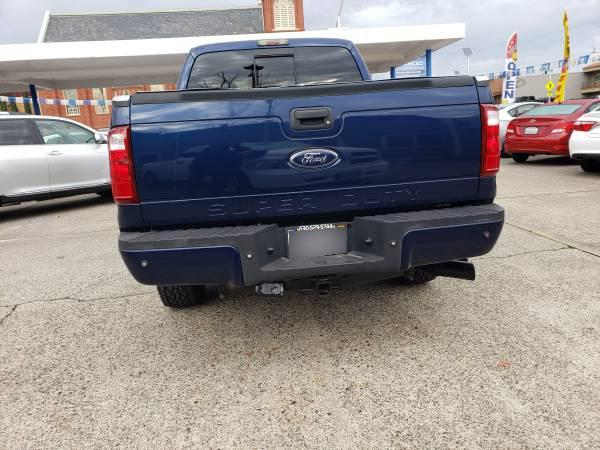Left_Taillight: (108, 125, 142, 204)
Rear_Bumper: (119, 202, 503, 289)
Rear_Windshield: (178, 39, 376, 90)
Right_Taillight: (478, 104, 500, 178)
Tailgate: (110, 78, 496, 231)
